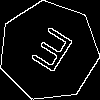E: (23, 26, 75, 82)
